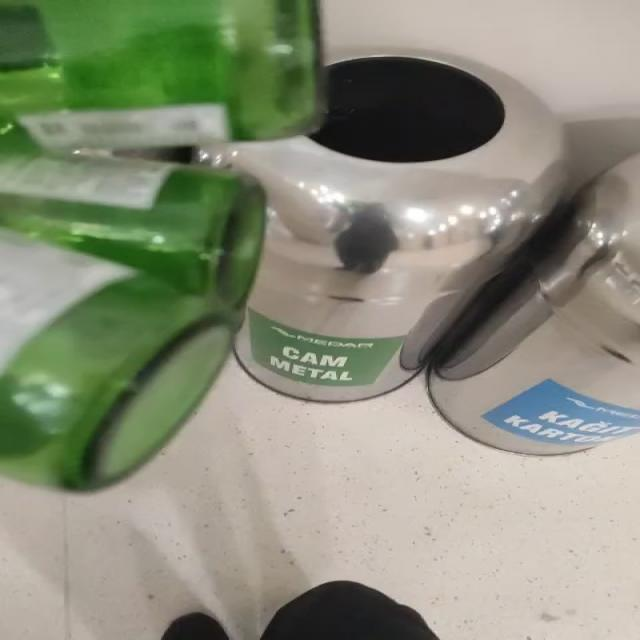glass: (0, 0, 321, 491)
